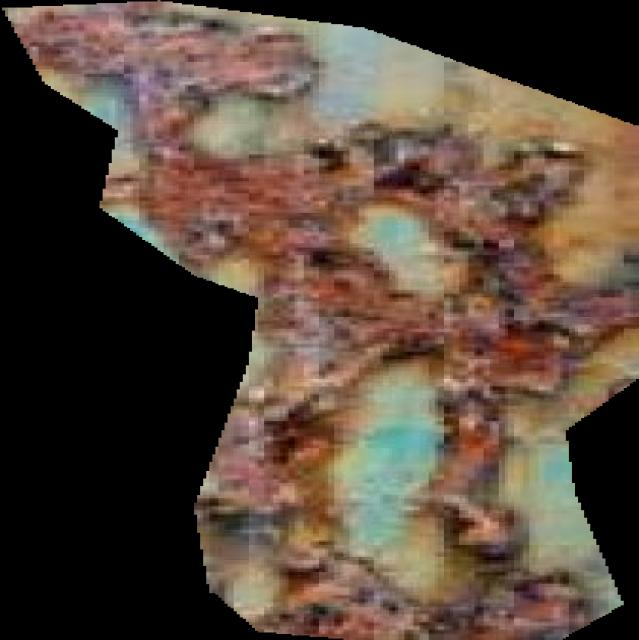Pitting Corrosion: (1, 1, 639, 640)
